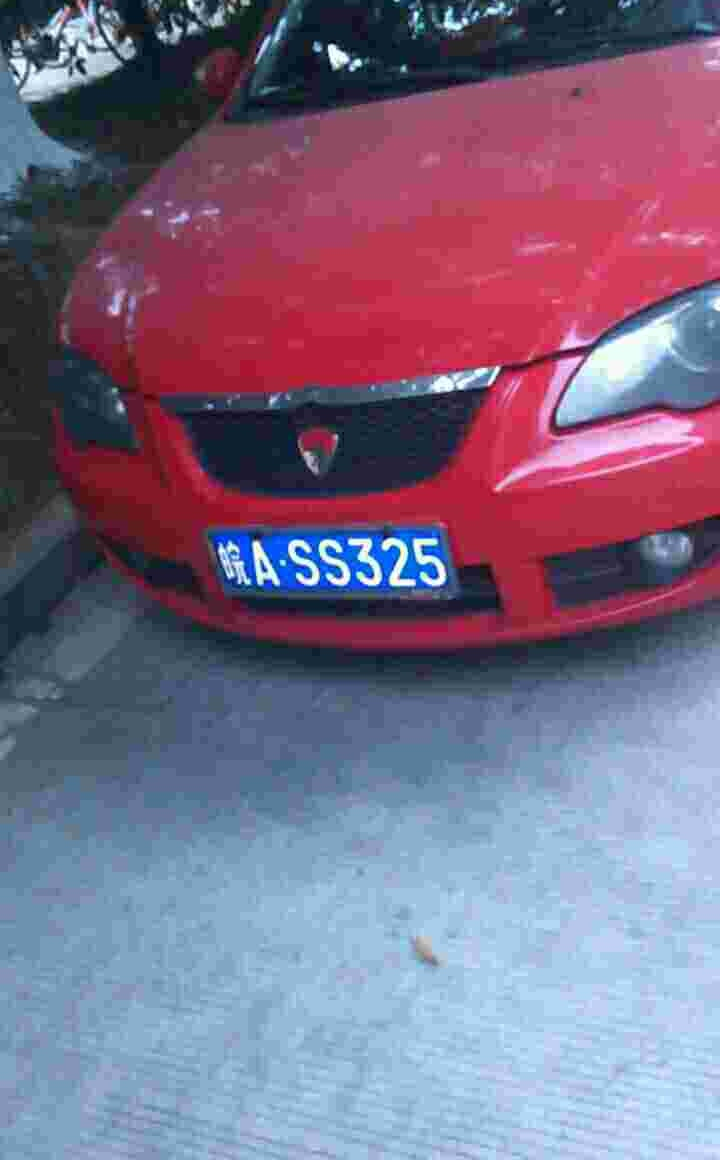car: (207, 533, 455, 604)
